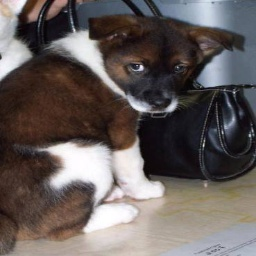dog: (2, 13, 236, 249)
